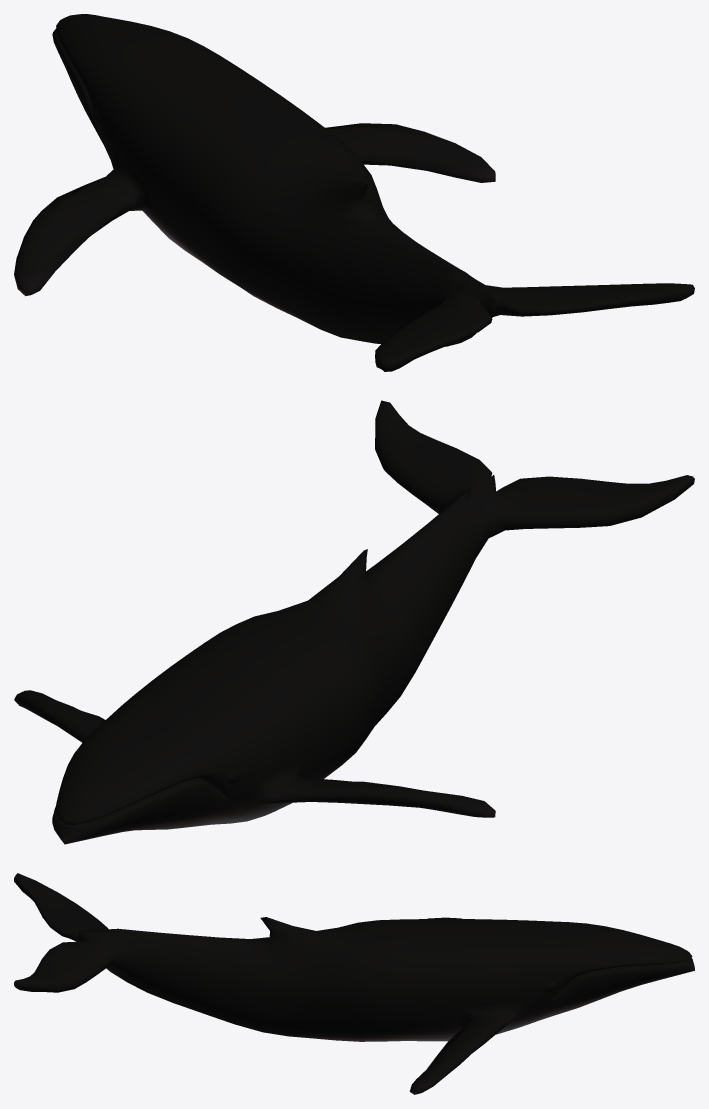
Rendered from baleia-jubarte.glb.
3 views of the same model, one above another, from view 1: azimuth 30°, elevation 25°; view 2: azimuth 150°, elevation 25°; view 3: azimuth 270°, elevation 25° (orthographic). The views are drawn at different scales.
Parts seen in each view (by area): view 1: Corpo_2; view 2: Corpo_2; view 3: Corpo_2.
Boxes of the visible parts, x1,y1,x2,y2 form: Corpo_2: (14, 14, 694, 371); Corpo_2: (14, 400, 694, 844); Corpo_2: (14, 873, 694, 1094).
Bounding box in the file's own units: 2.89 × 0.9294 × 5.02.
Materials: 1 (1 with a texture image).
